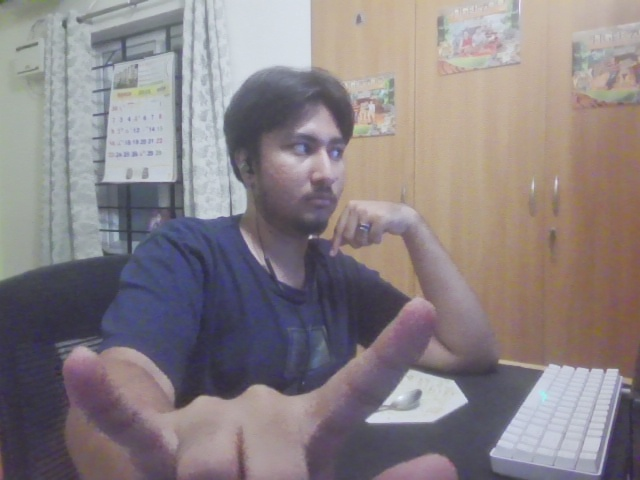iloveyou: (42, 293, 460, 480)
